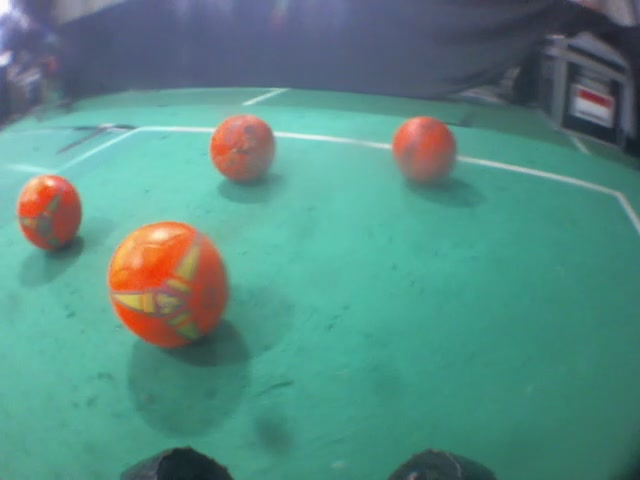ball: (104, 215, 235, 354), (388, 109, 466, 193), (12, 172, 88, 255), (207, 110, 277, 187)
